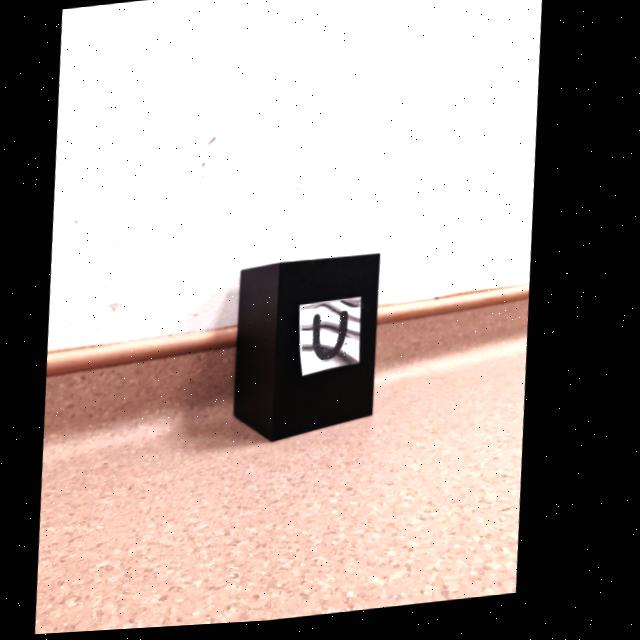U: (320, 316, 354, 365)
